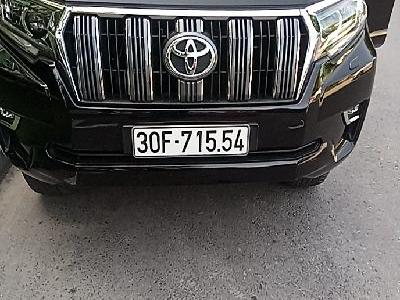lisence: (129, 123, 251, 160)
